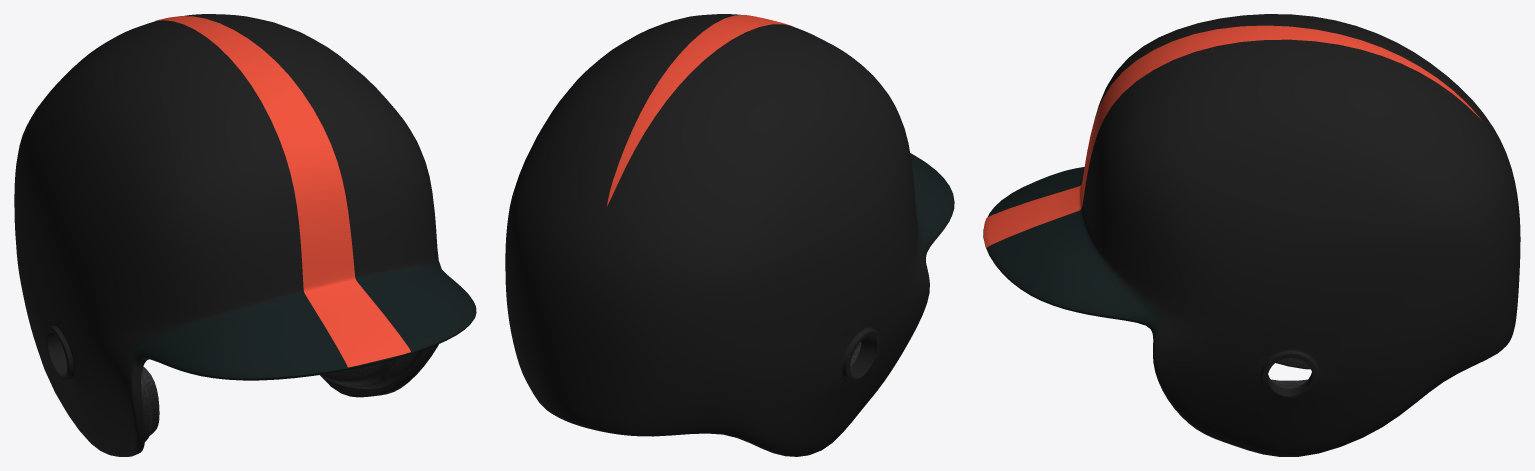
3 renders of one model, left to right at view 1: azimuth 30°, elevation 25°; view 2: azimuth 150°, elevation 25°; view 3: azimuth 270°, elevation 25°, orthographic. The views are drawn at different scales.
Visible parts, largest first — view 1: Helmet, Lapel, Stripe taperd-part1, Stripe taperd-part2; view 2: Helmet, Stripe taperd-part1, Lapel; view 3: Helmet, Lapel, Stripe taperd-part1, Stripe taperd-part2.
Boxes of the visible parts, x1,y1,x2,y2 form: Helmet: (14,14,441,456); Lapel: (132,266,476,380); Stripe taperd-part1: (155,16,355,290); Stripe taperd-part2: (304,278,410,367); Helmet: (505,14,929,456); Stripe taperd-part1: (607,15,793,205); Lapel: (910,153,954,261); Helmet: (1081,14,1520,456); Lapel: (983,167,1159,333); Stripe taperd-part1: (1080,25,1481,207); Stripe taperd-part2: (983,185,1081,247).
Size of the model in its own units: 0.1272 by 0.14 by 0.1851.
Materials: 4 (1 with a texture image).
